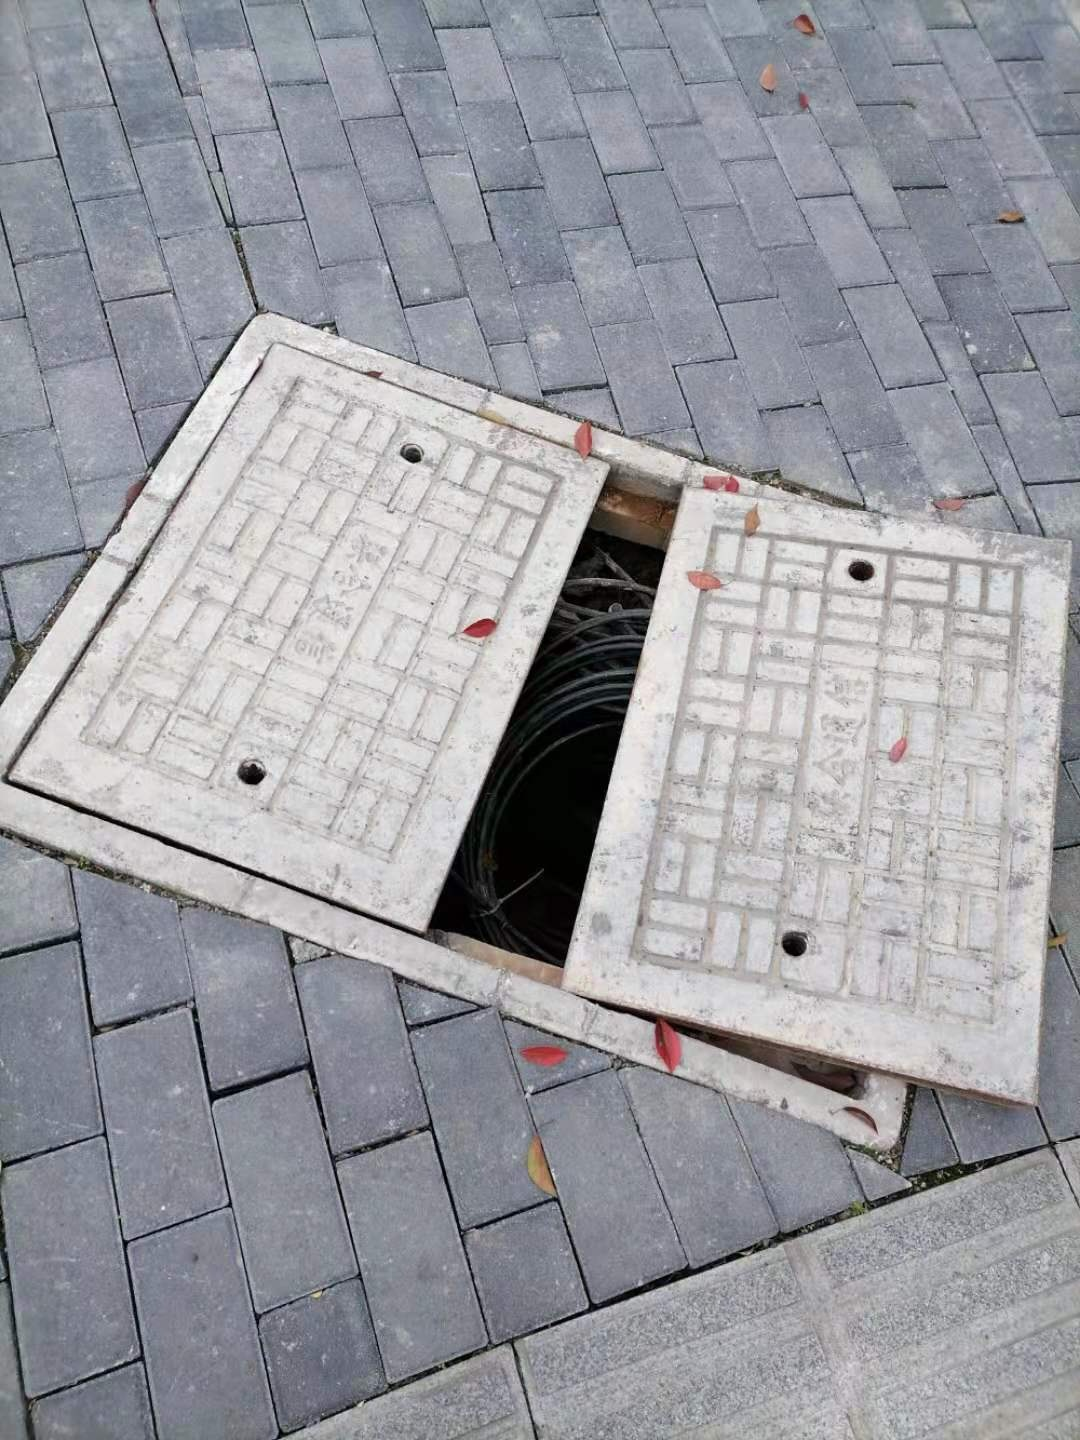uncovered: (6, 310, 1077, 1166)
